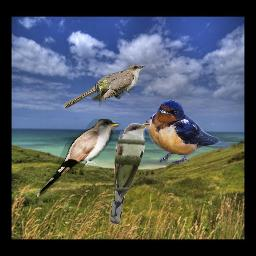Cuckoo: (36, 119, 121, 197), (110, 123, 151, 225), (63, 64, 145, 108)
Swallow: (143, 99, 230, 166)
